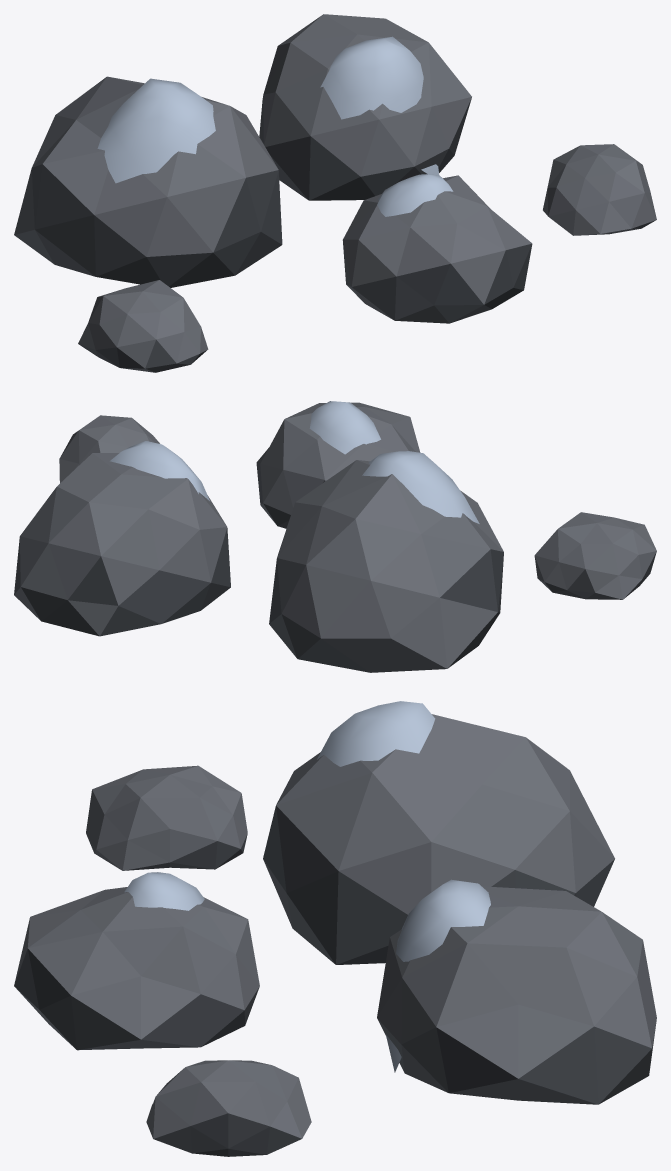
File: rock_f.glb
3 views of the same model, one above another, from view 1: azimuth 30°, elevation 25°; view 2: azimuth 150°, elevation 25°; view 3: azimuth 270°, elevation 25° (orthographic). The views are drawn at different scales.
Parts seen in each view (by area): view 1: Rock; view 2: Rock; view 3: Rock.
Part boxes in pixels (x1,y1,x2,y2): Rock: (14,14,656,372); Rock: (14,401,656,672); Rock: (14,701,656,1156).
Size of the model in its own units: 1.9 by 0.5304 by 1.5.
